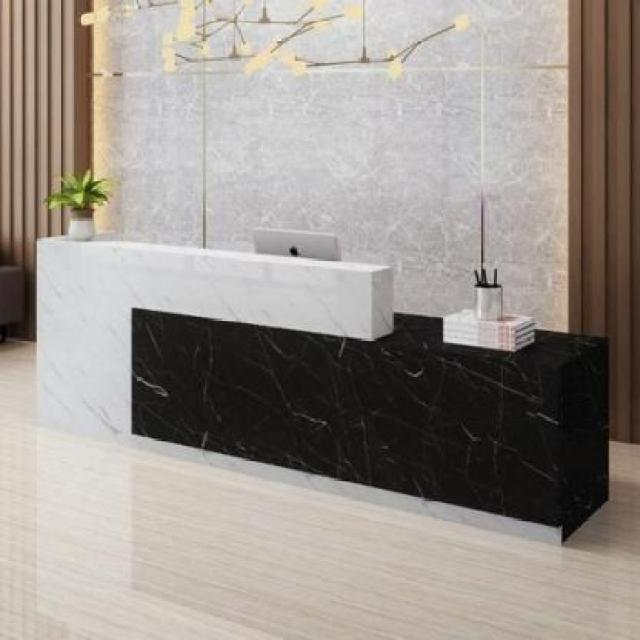frontdesk: (0, 223, 640, 559)
